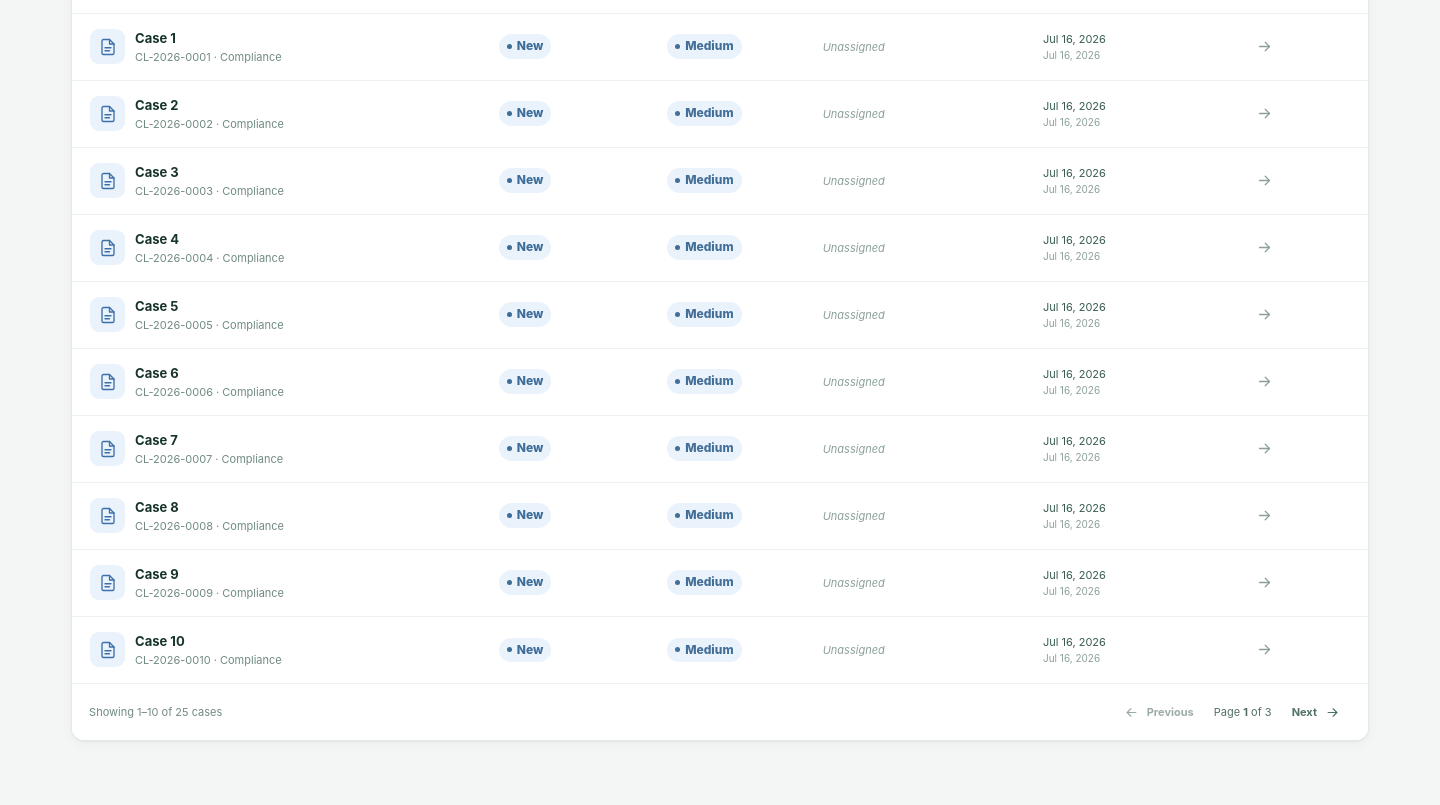
Test: CasesPage pagination › moves between server pages and resets to page one when a filter changes
This screenshot has width=1440, height=805.
(page scrolled)
Expected: the text "Showing 1–10 of 25 cases" is shown, [89, 705, 222, 719]
Expected: the button "Previous" is disabled, [1113, 695, 1205, 730]
Click the button "Next": (1316, 712) [1281, 695, 1351, 730]
(page scrolled)
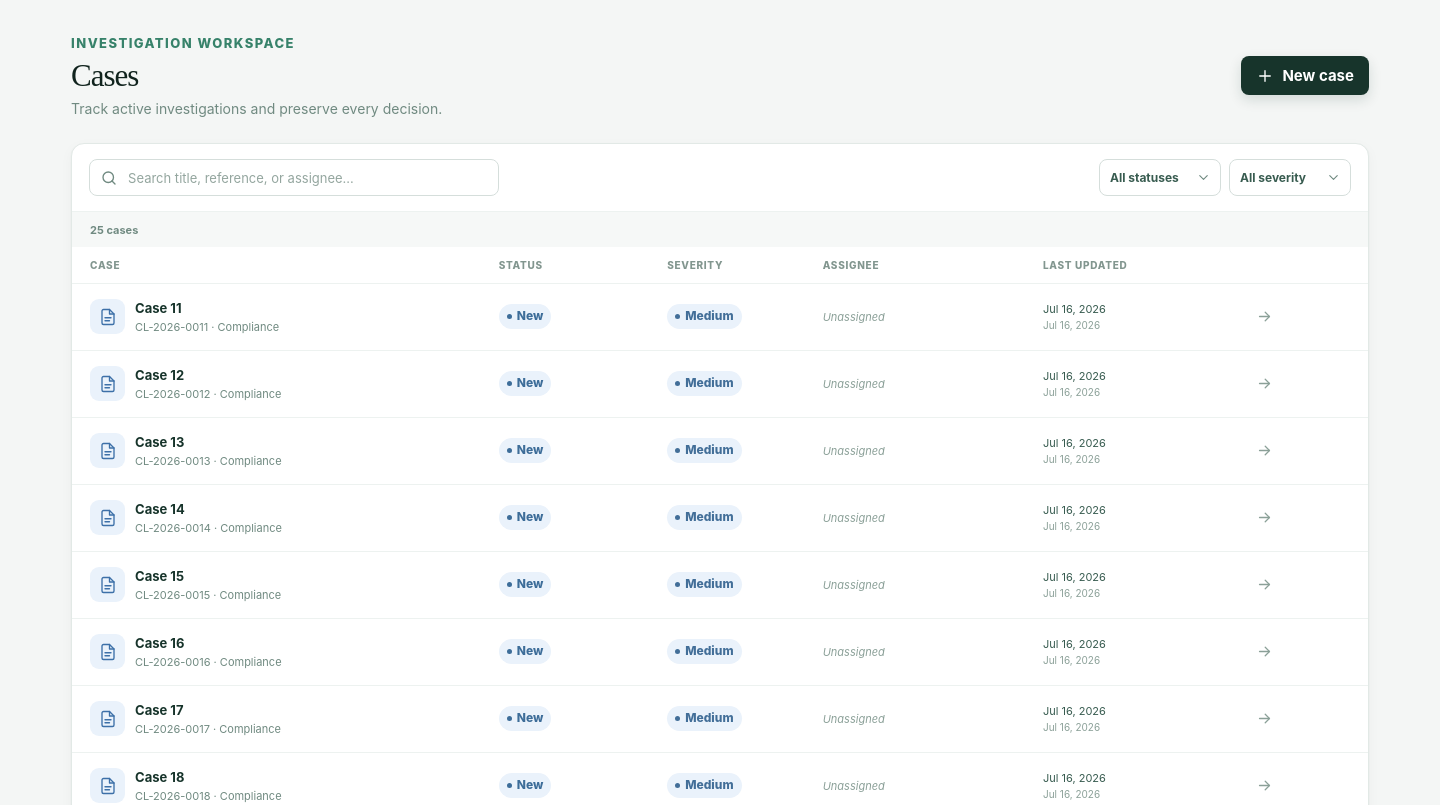
Select "Resolved" in the 1st dropdown named "Filter by status": (1160, 178) [1100, 160, 1220, 195]
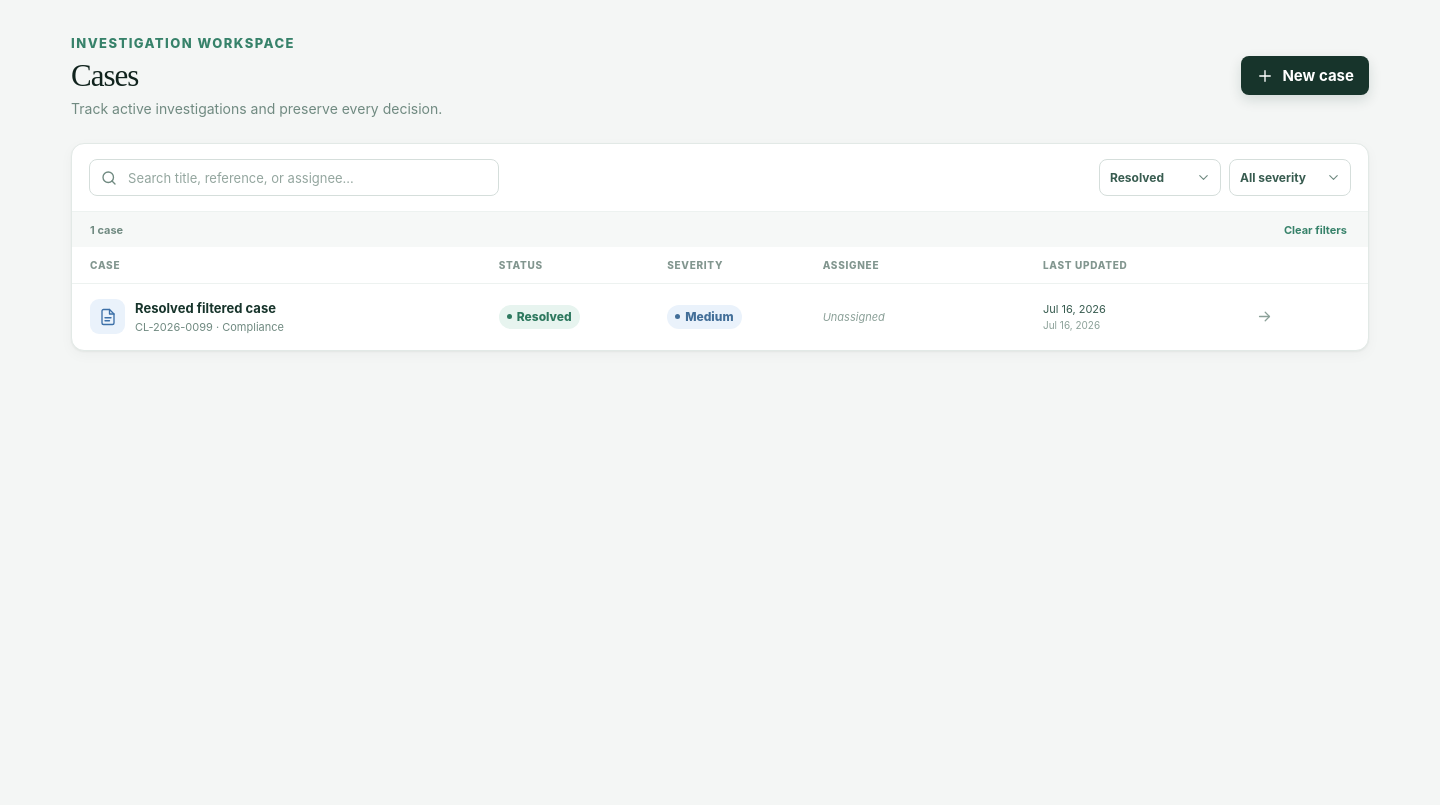
Expected: the text "Resolved filtered case" is shown 2 times
Click the button "Clear filters": (1316, 230) [1281, 220, 1350, 240]
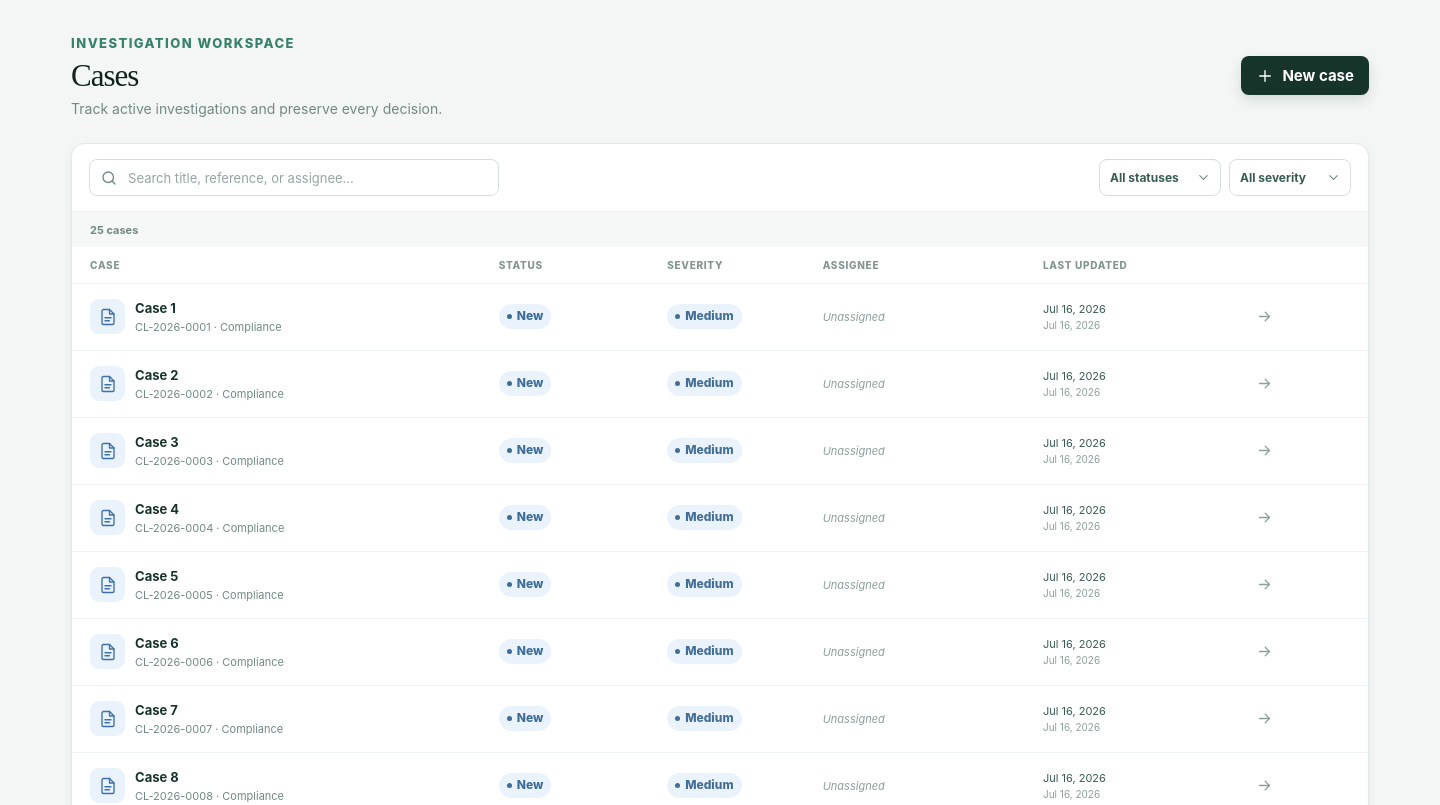
Expected: the text "Case 1" is shown 2 times
